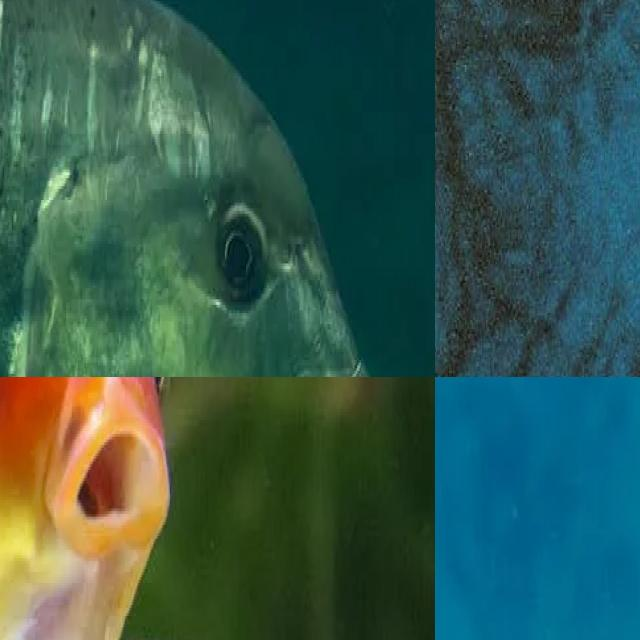fish: (0, 0, 435, 377), (435, 0, 640, 377), (435, 377, 640, 640)
